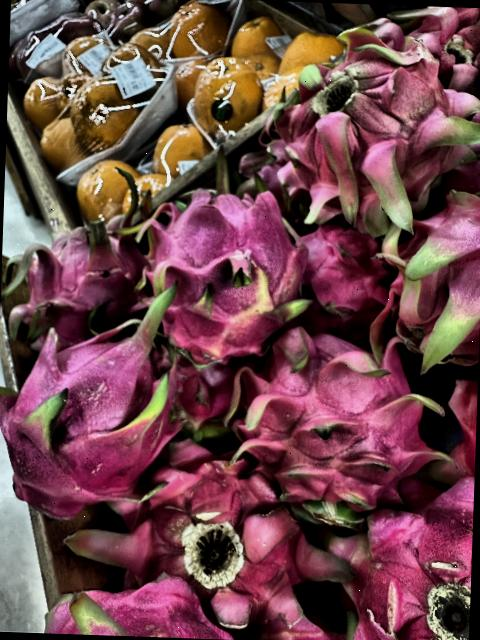buah-naga-belum-matang: (260, 17, 480, 234)
buah-naga-matang: (87, 455, 333, 640), (228, 315, 447, 522), (112, 168, 314, 364), (0, 321, 186, 497), (327, 497, 473, 640), (0, 216, 155, 334), (383, 190, 480, 360), (284, 219, 393, 342), (400, 5, 480, 98)
